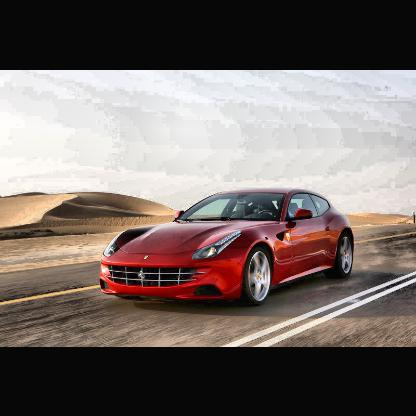Ferrari FF Coupe 2012: (100, 189, 355, 306)
